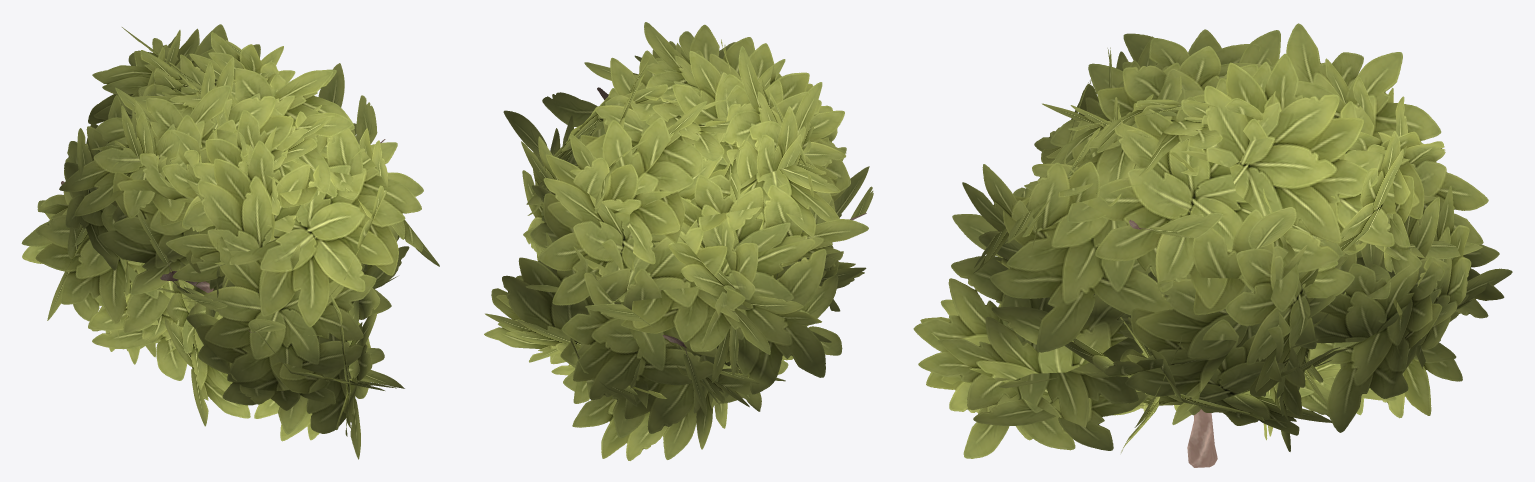
Rendered from Bush01.fbx.
The picture shows the model from 3 angles, left to right: view 1: azimuth 30°, elevation 25°; view 2: azimuth 150°, elevation 25°; view 3: azimuth 270°, elevation 25°; orthographic projection. The views are drawn at different scales.
Visible parts, largest first — view 1: Bush01; view 2: Bush01; view 3: Bush01.
Part boxes in pixels (bbox=[...]): Bush01: bbox=[21, 24, 439, 459]; Bush01: bbox=[484, 22, 873, 460]; Bush01: bbox=[913, 23, 1512, 467].
Size of the model in its own units: 172 by 176 by 230.
1 material, 1 textured.
